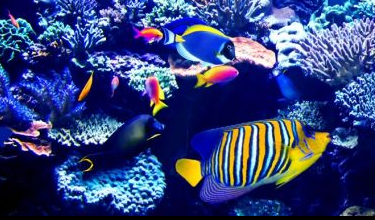fishRound: (175, 119, 330, 204), (81, 114, 165, 172), (160, 21, 236, 65)
fishSmall: (141, 75, 169, 116), (194, 65, 239, 90), (132, 24, 163, 44), (77, 70, 94, 105)
